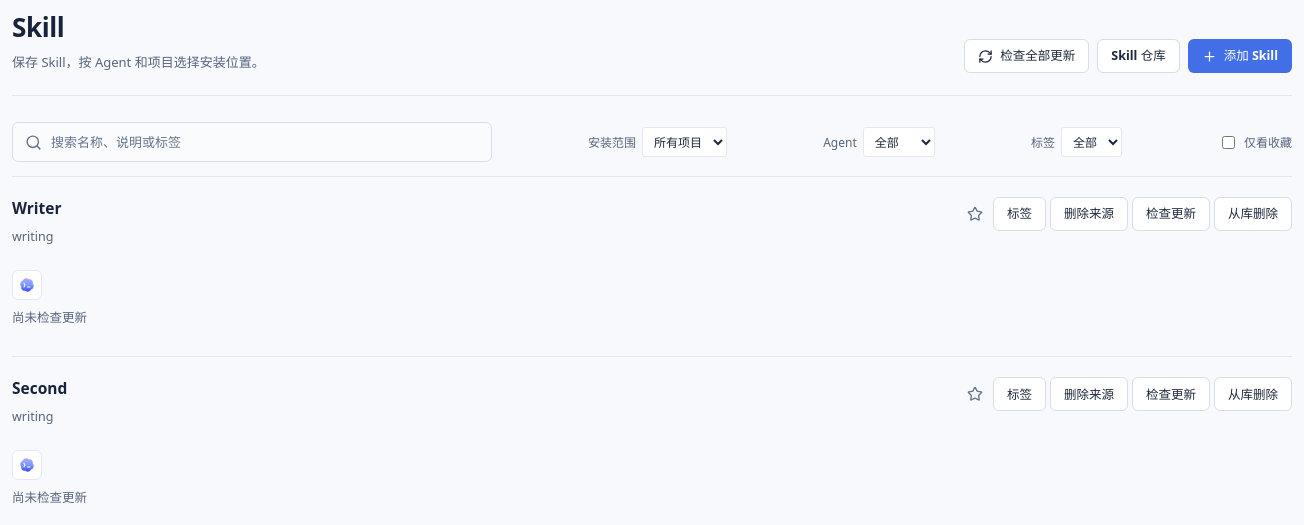
it: keeps other Skills and repository controls usable during a single check and reuses that check in the batch
Click the 1st button "检查更新": (1171, 214) x1=1132 y1=197 x2=1210 y2=231
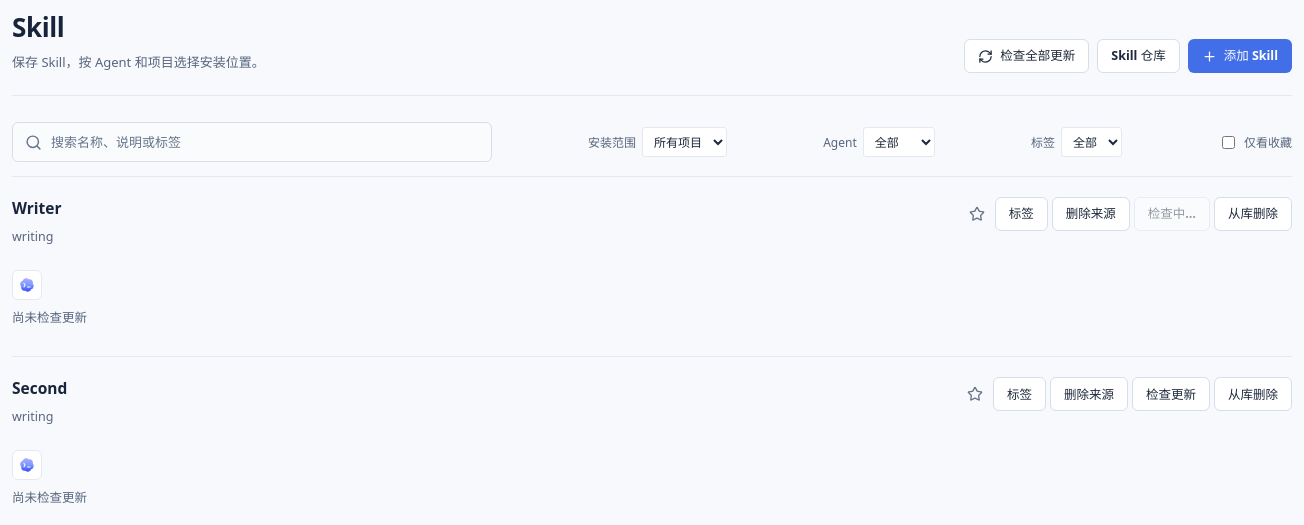
Expected: the button "检查更新" is enabled, x1=1132 y1=378 x2=1210 y2=412
Expected: the button "检查中…" is disabled, x1=1134 y1=197 x2=1210 y2=231
Click the button "检查全部更新": (1027, 56) x1=964 y1=39 x2=1089 y2=73
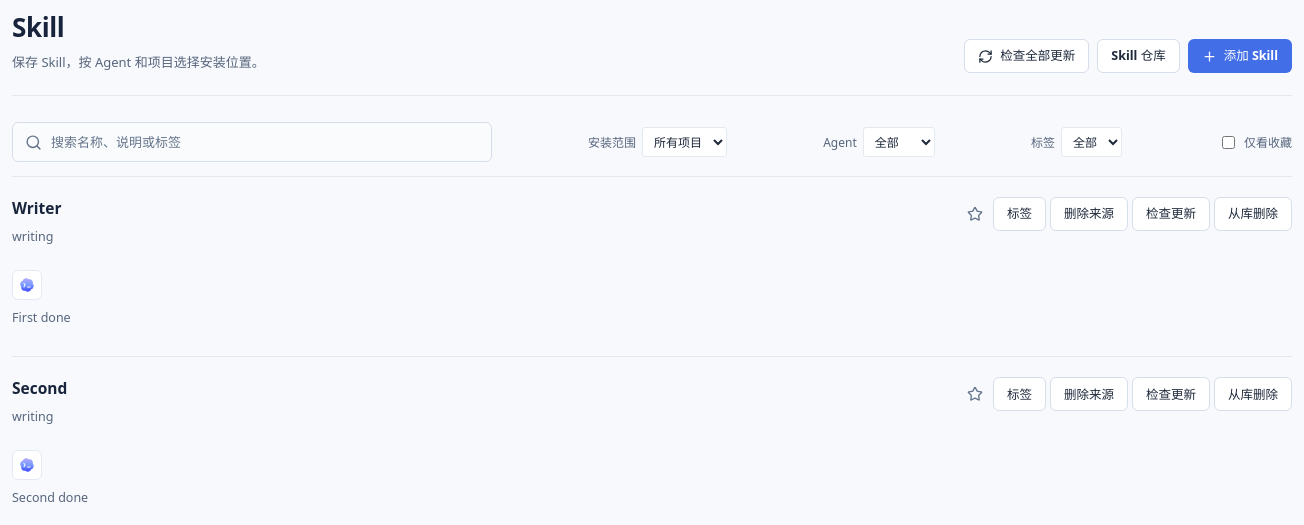
Expected: the text "Second done" is shown, x1=12 y1=488 x2=88 y2=509
